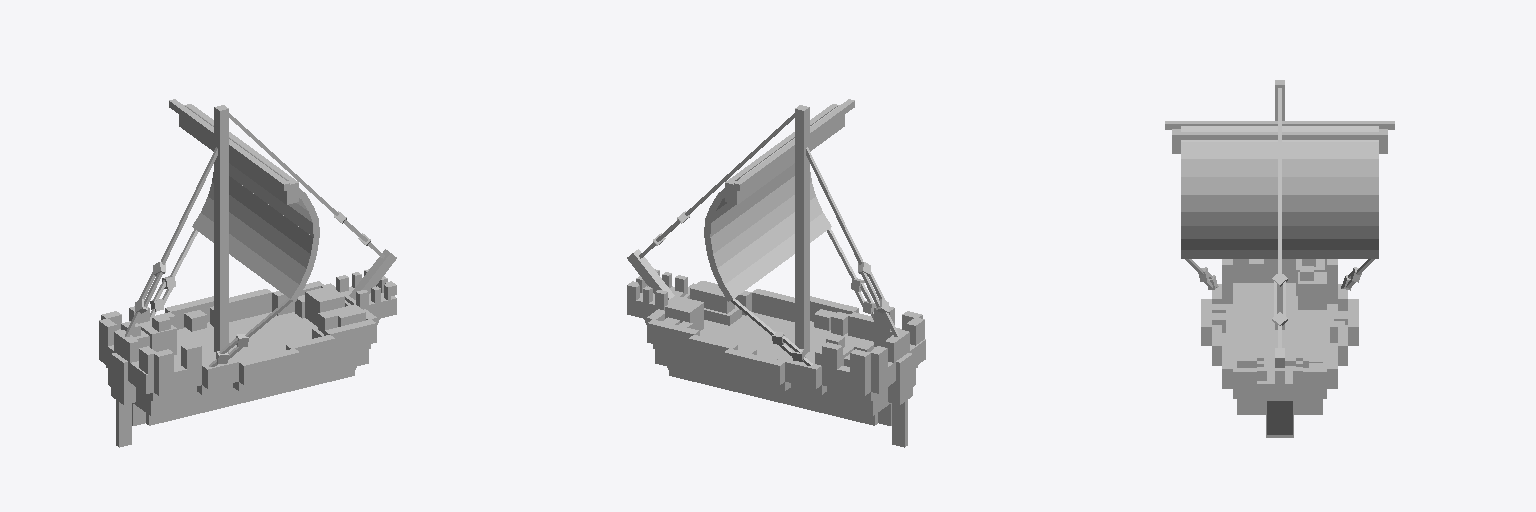
File: ModelCog.obj
3 renders of one model, left to right at view 1: azimuth 30°, elevation 25°; view 2: azimuth 150°, elevation 25°; view 3: azimuth 270°, elevation 25°, orthographic.
Parts seen in each view (by area): view 1: cube, steer; view 2: cube, steer; view 3: cube.
Boxes of the visible parts, box(x1,y1,x2,y2) form: cube: box(99, 99, 396, 425); steer: box(116, 400, 131, 447); cube: box(627, 99, 925, 425); steer: box(892, 400, 907, 447); cube: box(1165, 80, 1394, 437).
Size of the model in its own units: 5.57 by 6 by 4.